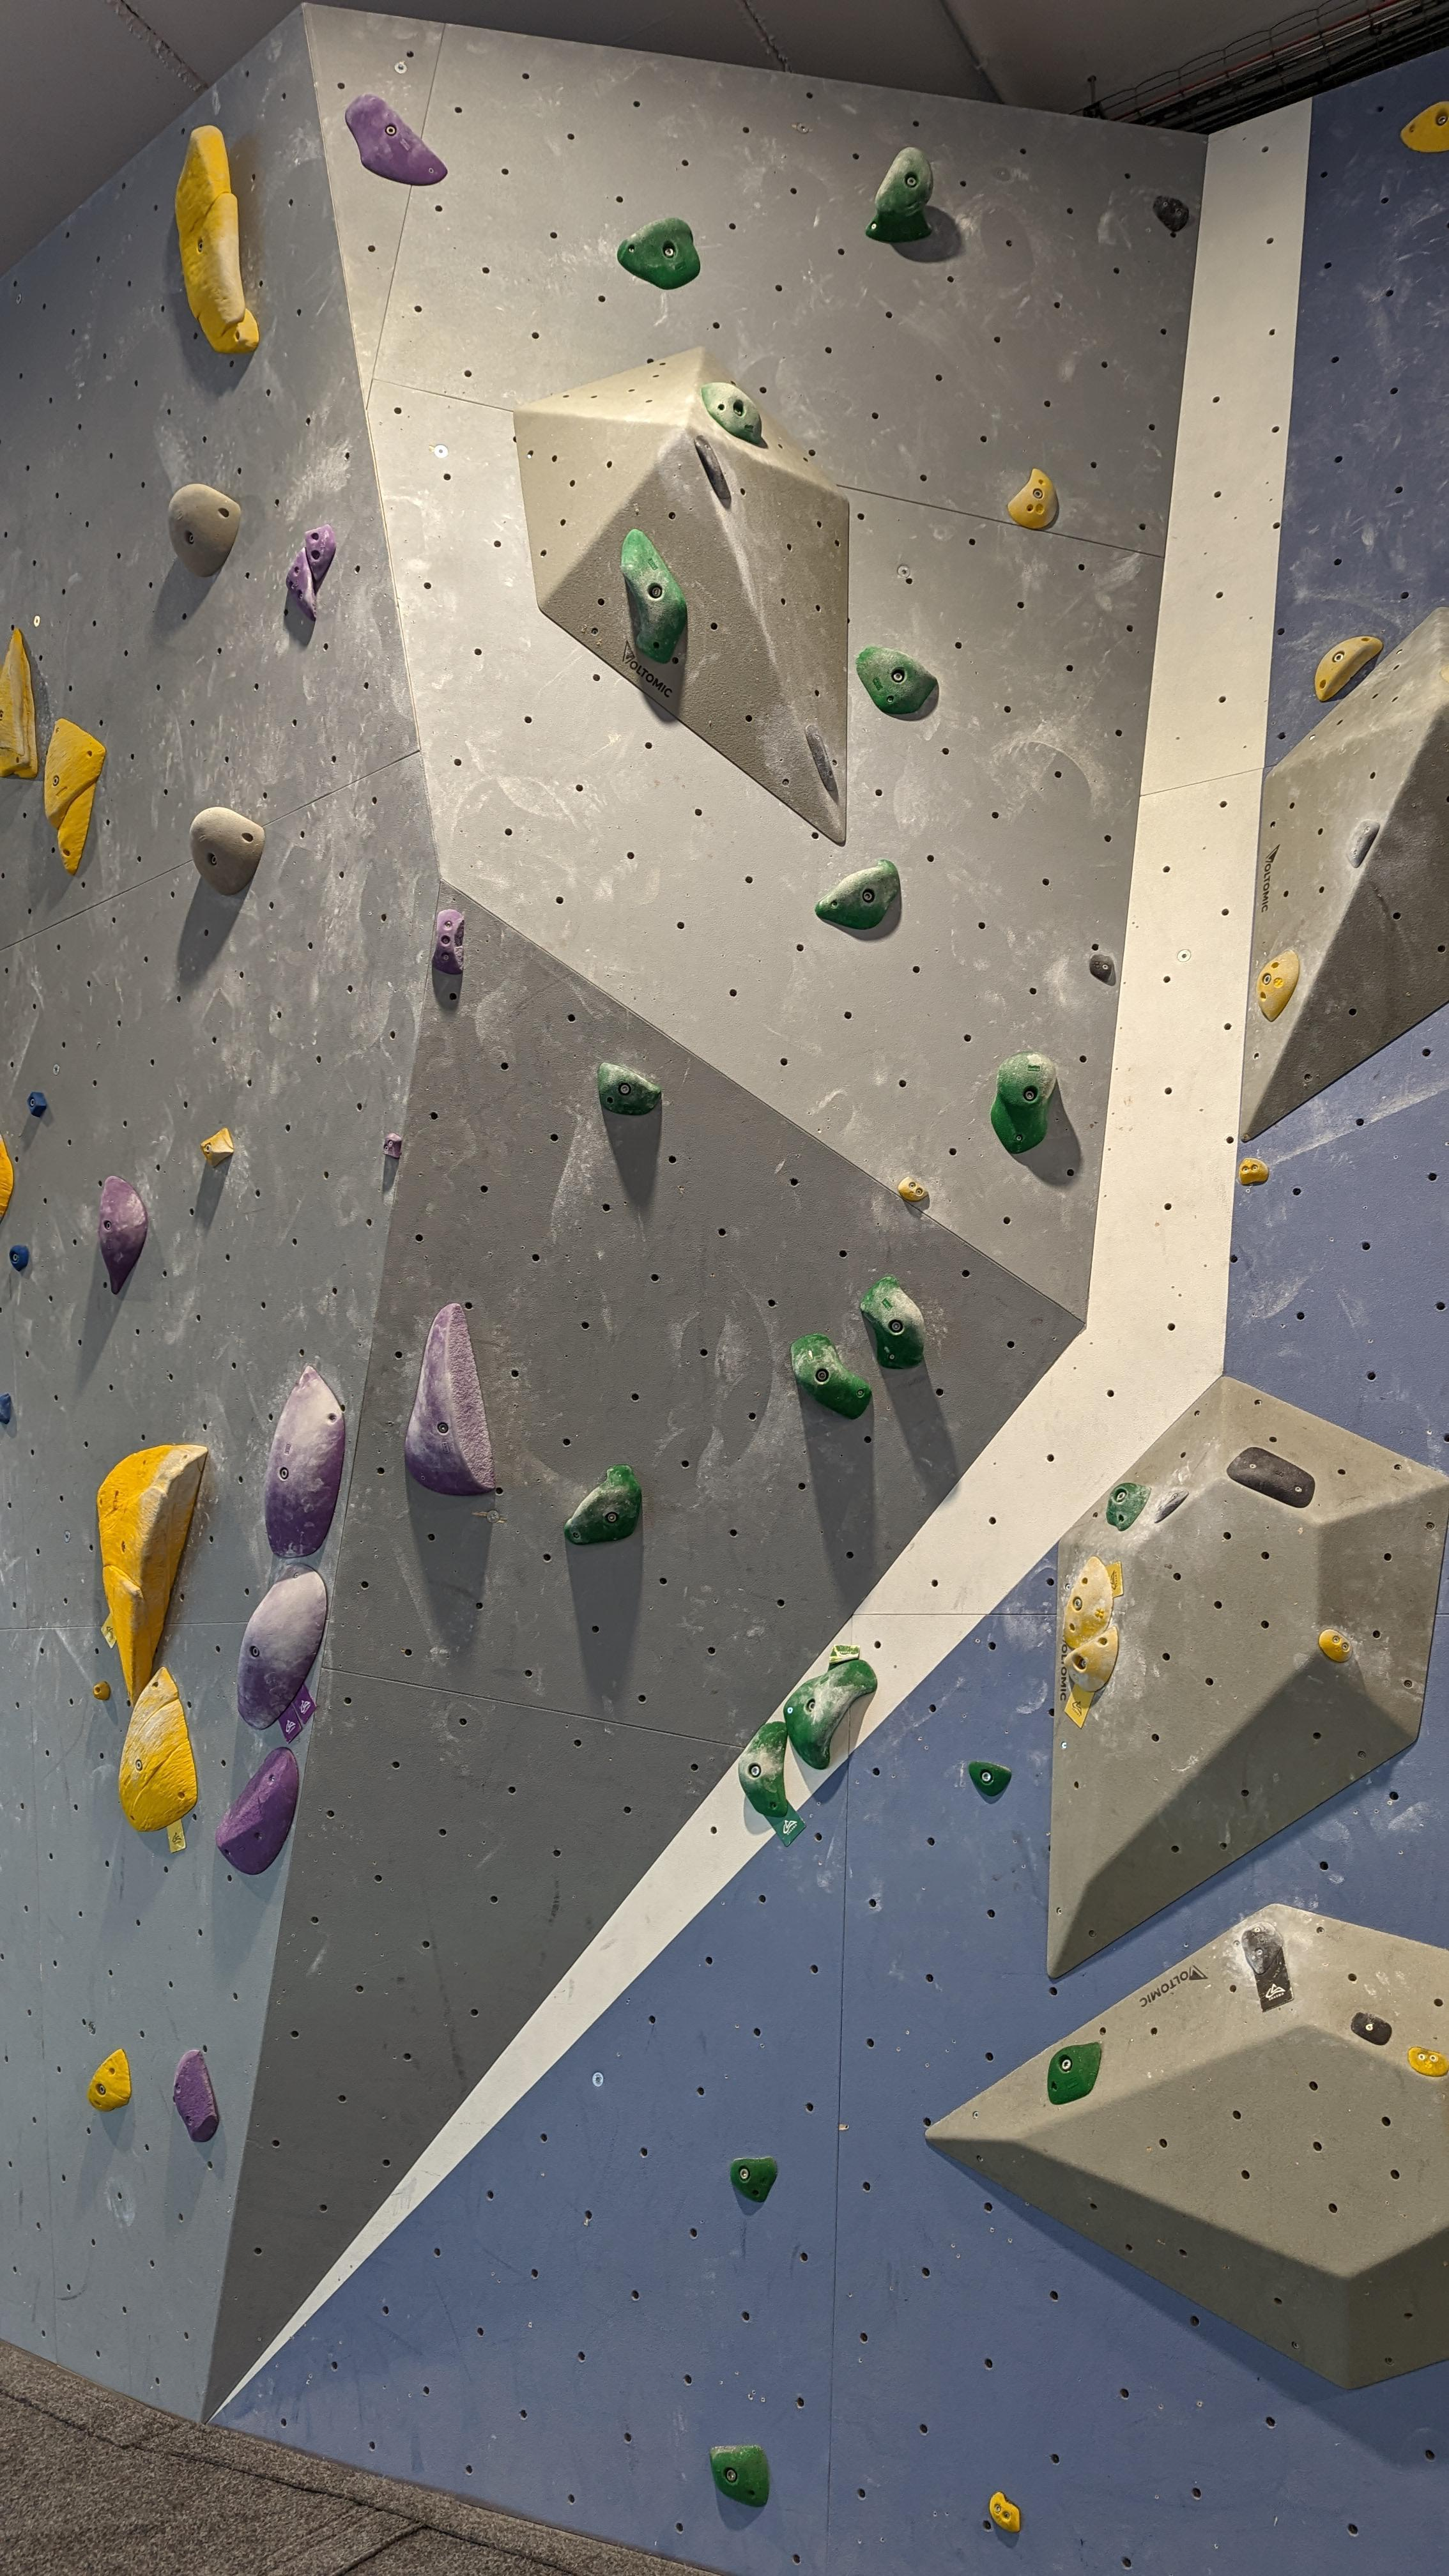hold: (97, 1444, 207, 1711), (175, 126, 260, 354), (403, 1302, 495, 1495), (264, 1364, 345, 1557), (237, 1562, 327, 1729), (119, 1667, 198, 1833), (216, 1748, 299, 1875), (784, 1660, 878, 1769), (44, 718, 106, 876), (345, 94, 448, 186), (619, 527, 686, 663), (789, 1334, 872, 1419), (168, 483, 241, 579), (189, 807, 265, 895), (991, 1051, 1056, 1154), (563, 1465, 642, 1548), (865, 147, 934, 242), (860, 1276, 925, 1369), (0, 628, 39, 780), (617, 218, 701, 288), (814, 860, 899, 929), (99, 1177, 149, 1293), (856, 646, 938, 715), (1226, 1447, 1315, 1507), (738, 1721, 787, 1817), (1313, 635, 1384, 701), (1063, 1557, 1113, 1649), (172, 2049, 218, 2143), (701, 382, 763, 444), (709, 2443, 770, 2507), (1063, 1626, 1118, 1693), (1047, 2042, 1102, 2105), (598, 1062, 662, 1115), (1007, 469, 1058, 529), (1256, 948, 1299, 1021), (87, 2049, 131, 2111), (1401, 101, 1449, 152), (285, 547, 317, 619), (1240, 1921, 1283, 1974), (695, 435, 731, 499), (432, 909, 465, 975), (731, 2157, 777, 2203), (1108, 1483, 1152, 1530), (805, 724, 835, 791), (304, 524, 336, 580), (1346, 819, 1380, 867), (1350, 2012, 1392, 2045), (970, 1762, 1012, 1796), (989, 2491, 1021, 2534), (0, 1131, 14, 1224), (200, 1127, 234, 1166), (1152, 196, 1189, 230), (1408, 2047, 1449, 2077), (1154, 1490, 1189, 1523), (1318, 1629, 1353, 1661), (1238, 1157, 1269, 1184), (897, 1177, 929, 1201), (1090, 954, 1113, 982), (382, 1132, 402, 1159), (9, 1244, 28, 1270), (27, 1092, 46, 1118), (92, 1681, 111, 1700), (0, 1392, 11, 1424), (1440, 665, 1449, 683)
volume: (925, 1904, 1449, 2388), (1046, 1376, 1449, 1980), (513, 347, 849, 844), (1240, 607, 1449, 1143)
